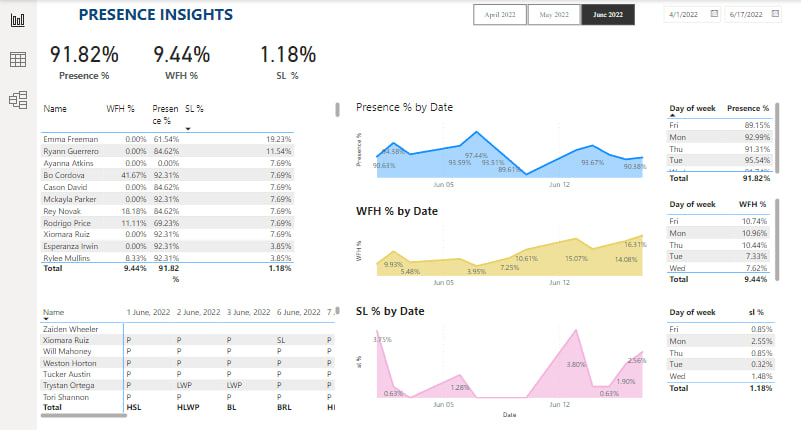

What the dashboard file says about the page in this screenshot:
{"tool":"powerbi","page":{"name":"PRESENCE INSIGHTS","canvas":[1280,720],"ordinal":0},"visuals":[{"type":"card","fields":{"Values":["Measure.Presence %"]},"box":[0,48.6,157.5,97.2],"z":2},{"type":"slicer","fields":{"Values":["FINAL DATA.Month"]},"box":[705.3,0,320,48.6],"z":3},{"type":"card","fields":{"Values":["Measure.WFH %"]},"box":[157.5,48.6,169.2,97.2],"z":4},{"type":"card","fields":{"Values":["Measure.sl %"]},"box":[326.7,48.6,186,97.2],"z":5},{"type":"tableEx","fields":{"Values":["FINAL DATA.Name","Measure.WFH %","Measure.Presence %","Measure.sl %"]},"box":[0,165.9,512.7,315],"z":6},{"type":"textbox","box":[53.6,0,289.8,48.6],"z":7},{"type":"pivotTable","fields":{"Rows":["FINAL DATA.Name"],"Values":["Min(FINAL DATA.Value)"],"Columns":["FINAL DATA.Date"]},"box":[0,507.6,512.7,197.7],"z":8},{"type":"stackedAreaChart","fields":{"Y":["Measure.Presence %"],"Category":["FINAL DATA.Date"]},"box":[529.4,165.9,507.6,160.8],"z":9},{"type":"stackedAreaChart","fields":{"Y":["Measure.WFH %"],"Category":["FINAL DATA.Date"]},"box":[529.4,340.1,507.6,152.5],"z":10},{"type":"stackedAreaChart","title":"SL % by Date","fields":{"Y":["Measure.sl %"],"Category":["FINAL DATA.Date"]},"box":[529.4,507.6,507.6,197.7],"z":11},{"type":"tableEx","fields":{"Values":["FINAL DATA.Day of week","Measure.Presence %"]},"box":[1048.8,165.9,201,145.8],"z":12},{"type":"tableEx","fields":{"Values":["FINAL DATA.Day of week","Measure.WFH %"]},"box":[1048.8,326.7,201,154.1],"z":13},{"type":"tableEx","fields":{"Values":["FINAL DATA.Day of week","Measure.sl %"]},"box":[1048.8,507.6,201,197.7],"z":14},{"type":"slicer","fields":{"Values":["FINAL DATA.Date"]},"box":[1037.1,0,224.5,48.6],"z":15}]}

Visuals, with their boxes on the page's 1280x720 design canvas (x1, y1, x2, y2). These are canvas units, not pixel positions in the 801x430 screenshot, which may show the page scaled, cropped or inside an application window:
card - Measure.Presence %: pyautogui.locateOnScreen(0, 49, 158, 146)
slicer - FINAL DATA.Month: pyautogui.locateOnScreen(705, 0, 1025, 49)
card - Measure.WFH %: pyautogui.locateOnScreen(158, 49, 327, 146)
card - Measure.sl %: pyautogui.locateOnScreen(327, 49, 513, 146)
tableEx - FINAL DATA.Name x Measure.WFH %: pyautogui.locateOnScreen(0, 166, 513, 481)
textbox: pyautogui.locateOnScreen(54, 0, 343, 49)
pivotTable - FINAL DATA.Name x Min(FINAL DATA.Value): pyautogui.locateOnScreen(0, 508, 513, 705)
stackedAreaChart - Measure.Presence % x FINAL DATA.Date: pyautogui.locateOnScreen(529, 166, 1037, 327)
stackedAreaChart - Measure.WFH % x FINAL DATA.Date: pyautogui.locateOnScreen(529, 340, 1037, 493)
"SL % by Date" stackedAreaChart: pyautogui.locateOnScreen(529, 508, 1037, 705)
tableEx - FINAL DATA.Day of week x Measure.Presence %: pyautogui.locateOnScreen(1049, 166, 1250, 312)
tableEx - FINAL DATA.Day of week x Measure.WFH %: pyautogui.locateOnScreen(1049, 327, 1250, 481)
tableEx - FINAL DATA.Day of week x Measure.sl %: pyautogui.locateOnScreen(1049, 508, 1250, 705)
slicer - FINAL DATA.Date: pyautogui.locateOnScreen(1037, 0, 1262, 49)
